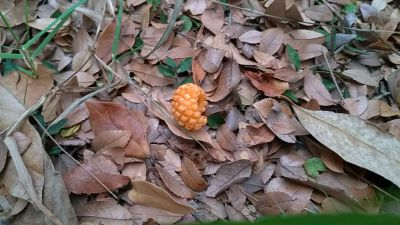eggs: (169, 80, 210, 133)
